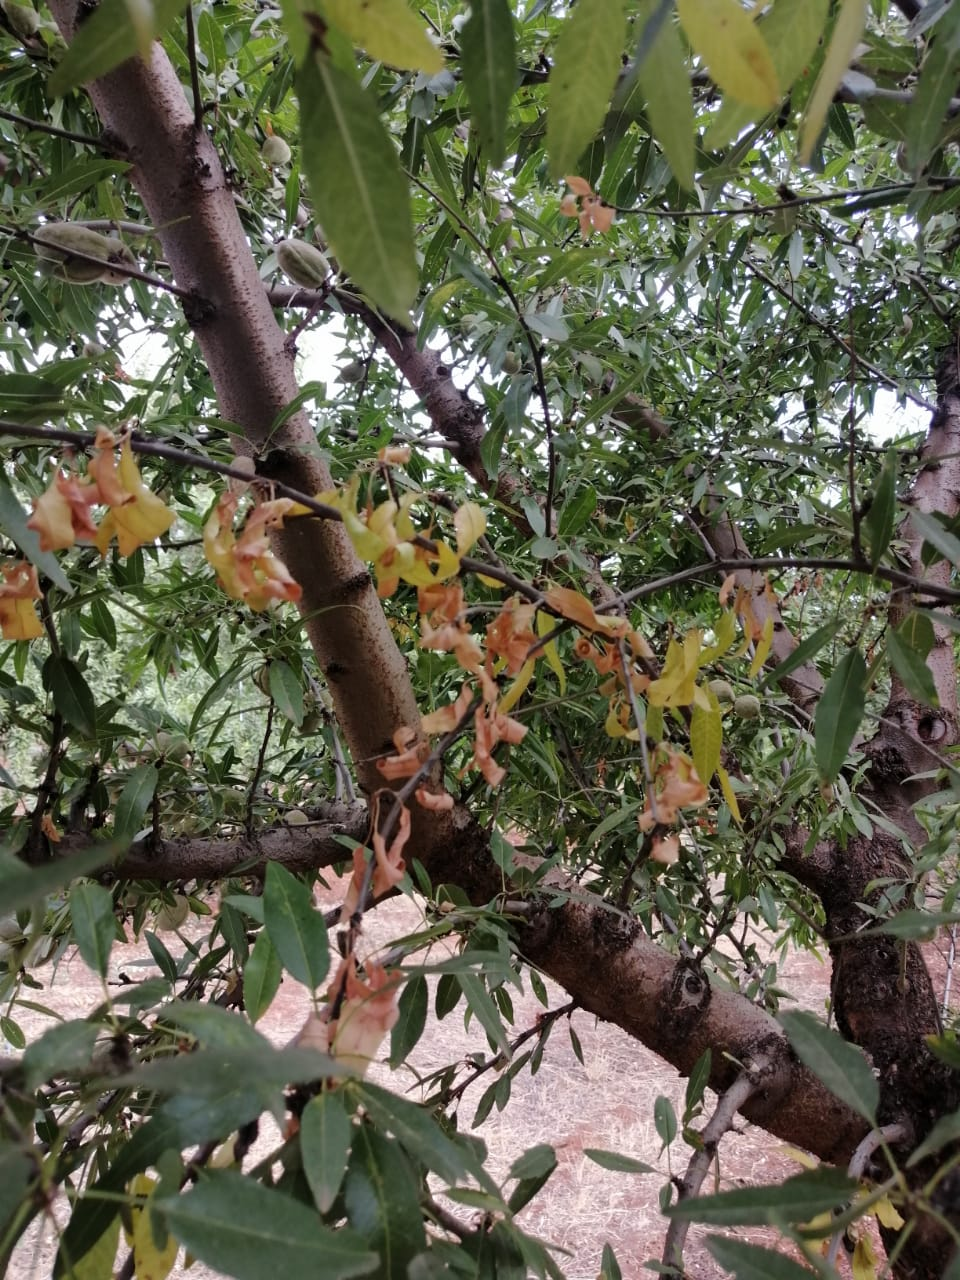chancre fusicocum: (1, 414, 663, 672), (318, 591, 645, 1030)
